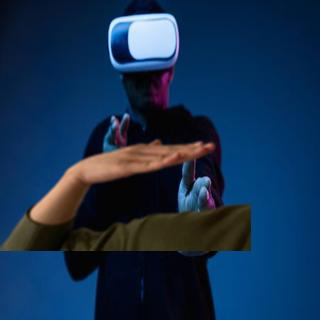WAIT: (72, 136, 218, 185)
